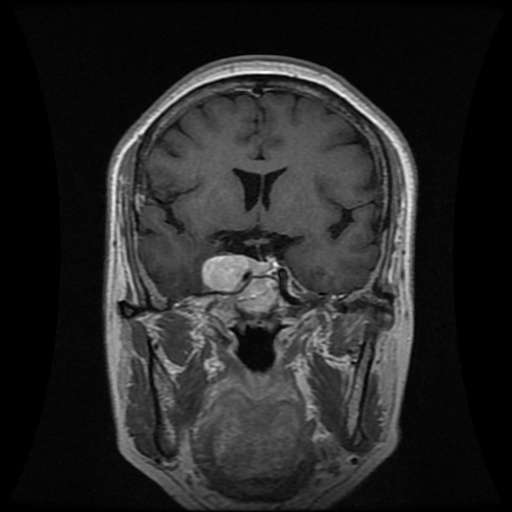meningioma: (201, 254, 250, 292)
